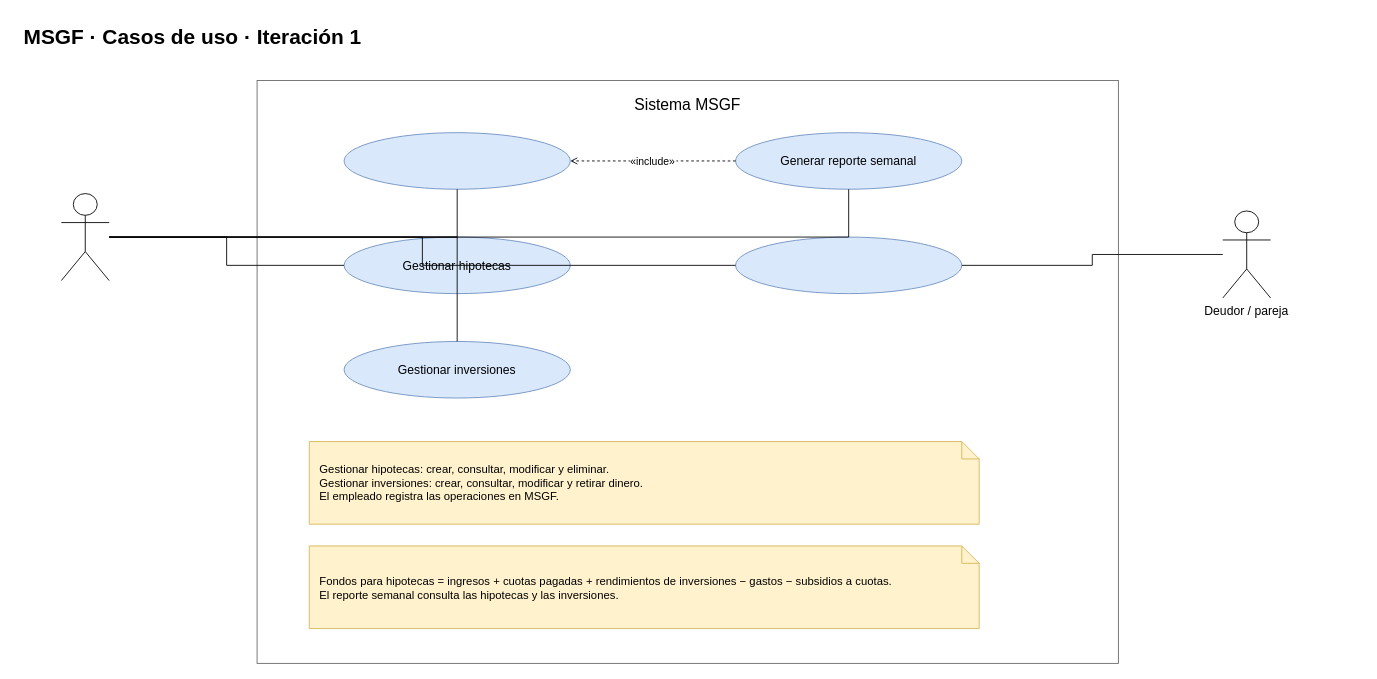
This 1377x679 diagram has some shape labels left out. Here are the shapes that lost their labels. From the top down, the centre of each, then its label:
[456,160]: Calcular fondos disponibles
[84,237]: Empleado de la fundación
[848,265]: Registrar pago de cuota
